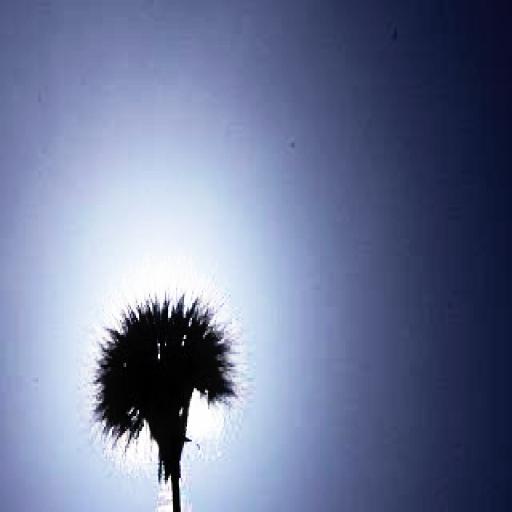dandelion: (85, 260, 243, 470)
